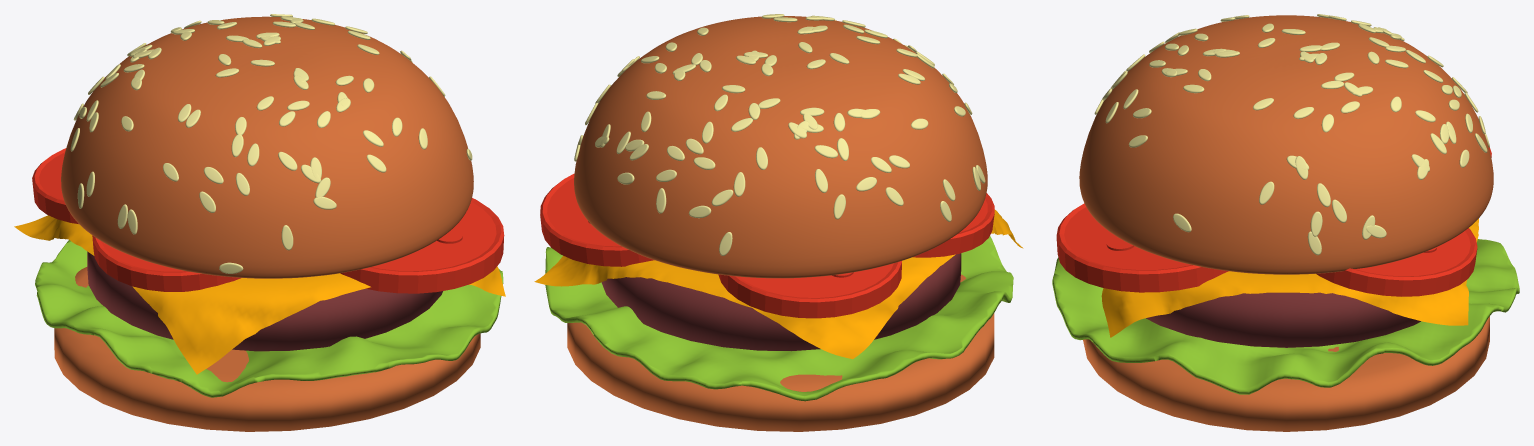
The picture shows the model from 3 angles, left to right: view 1: azimuth 30°, elevation 25°; view 2: azimuth 150°, elevation 25°; view 3: azimuth 270°, elevation 25°; orthographic projection.
Visible parts, largest first — view 1: bred up.001, bred down.001, green .002, Plane.003, meat.001, tomato.004, tomato.005, tomato.006; view 2: bred up.001, green .002, bred down.001, meat.001, Plane.003, tomato.006, tomato.007, tomato.005; view 3: bred up.001, green .002, bred down.001, meat.001, Plane.003, tomato.004, tomato.007.
Boxes of the visible parts, x1=… form: bred up.001: x1=61, y1=14, x2=473, y2=278; bred down.001: x1=54, y1=267, x2=480, y2=431; green .002: x1=35, y1=240, x2=503, y2=397; Plane.003: x1=14, y1=215, x2=505, y2=374; meat.001: x1=87, y1=251, x2=442, y2=351; tomato.004: x1=340, y1=198, x2=504, y2=293; tomato.005: x1=92, y1=235, x2=240, y2=291; tomato.006: x1=32, y1=148, x2=78, y2=223; bred up.001: x1=574, y1=14, x2=987, y2=278; green .002: x1=545, y1=236, x2=1013, y2=401; bred down.001: x1=567, y1=274, x2=994, y2=431; meat.001: x1=601, y1=253, x2=961, y2=351; Plane.003: x1=534, y1=209, x2=1023, y2=359; tomato.006: x1=718, y1=261, x2=901, y2=318; tomato.007: x1=540, y1=173, x2=654, y2=266; tomato.005: x1=913, y1=193, x2=994, y2=257; bred up.001: x1=1079, y1=14, x2=1493, y2=274; green .002: x1=1052, y1=239, x2=1519, y2=394; bred down.001: x1=1083, y1=316, x2=1489, y2=431; meat.001: x1=1146, y1=292, x2=1420, y2=347; Plane.003: x1=1101, y1=218, x2=1478, y2=337; tomato.004: x1=1056, y1=203, x2=1228, y2=292; tomato.007: x1=1316, y1=228, x2=1477, y2=296.
Bounding box in the file's own units: 2.71 × 1.9 × 2.73.
